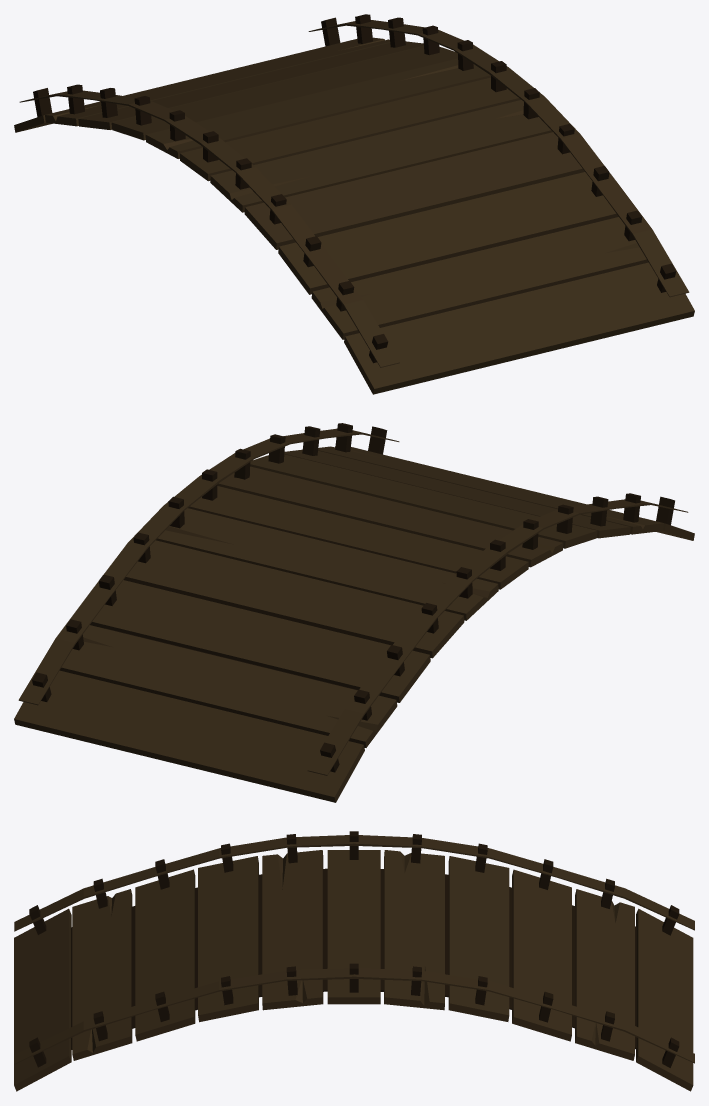
The model's file is Puente.fbx.
3 renders of one model, top to bottom at view 1: azimuth 30°, elevation 25°; view 2: azimuth 150°, elevation 25°; view 3: azimuth 270°, elevation 25°, orthographic. The views are drawn at different scales.
Visible parts, largest first — view 1: Puente Unido; view 2: Puente Unido; view 3: Puente Unido.
Part boxes in pixels (x1=…): Puente Unido: x1=14, y1=14, x2=694, y2=394; Puente Unido: x1=14, y1=423, x2=694, y2=802; Puente Unido: x1=14, y1=831, x2=694, y2=1091.
Size of the model in its own units: 9.1 by 3.4 by 17.76.
